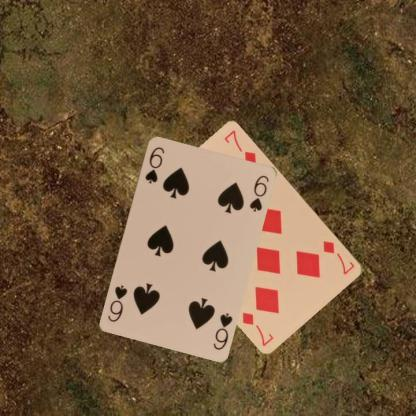6s: (142, 144, 166, 184), (210, 310, 233, 350)
7d: (321, 238, 356, 276)
